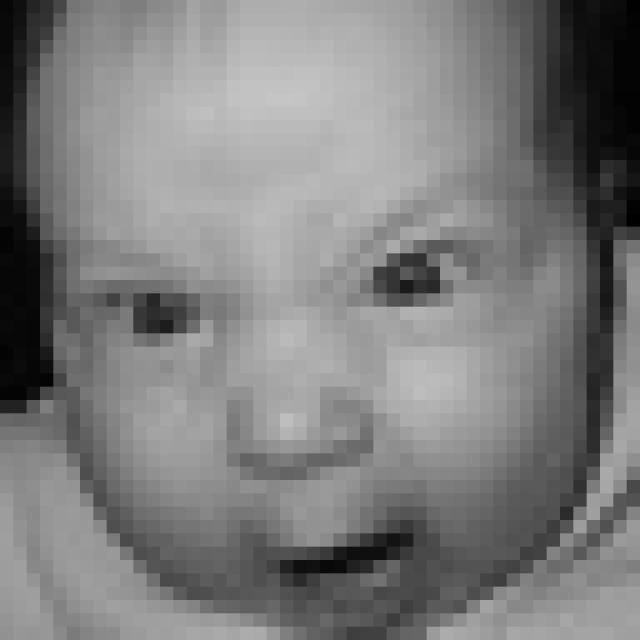angry: (65, 213, 526, 609)
